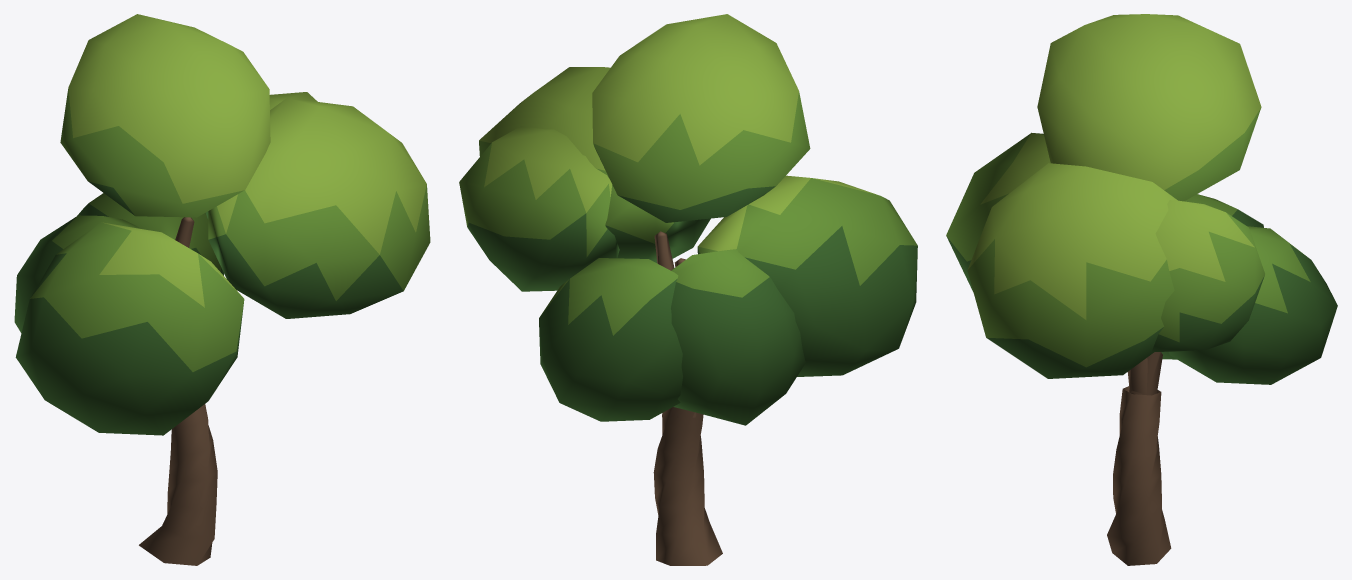
The model's file is BeechB_LOD.glb.
3 renders of one model, left to right at view 1: azimuth 30°, elevation 25°; view 2: azimuth 150°, elevation 25°; view 3: azimuth 270°, elevation 25°, orthographic.
Visible parts, largest first — view 1: BeechB_LOD.leafLight, BeechB_LOD.leafMid, BeechB_LOD.leafDark, BeechB_LOD.bark; view 2: BeechB_LOD.leafDark, BeechB_LOD.leafMid, BeechB_LOD.leafLight, BeechB_LOD.bark; view 3: BeechB_LOD.leafLight, BeechB_LOD.leafMid, BeechB_LOD.leafDark, BeechB_LOD.bark.
Part boxes in pixels (<box>): BeechB_LOD.leafLight: <box>68,14,426,307</box>; BeechB_LOD.leafMid: <box>30,89,430,371</box>; BeechB_LOD.leafDark: <box>14,181,403,435</box>; BeechB_LOD.bark: <box>139,217,217,565</box>; BeechB_LOD.leafDark: <box>467,186,917,425</box>; BeechB_LOD.leafMid: <box>459,91,917,335</box>; BeechB_LOD.leafLight: <box>479,14,878,251</box>; BeechB_LOD.bark: <box>653,231,722,565</box>; BeechB_LOD.leafLight: <box>967,14,1261,319</box>; BeechB_LOD.leafMid: <box>946,107,1310,367</box>; BeechB_LOD.leafDark: <box>946,209,1337,384</box>; BeechB_LOD.bark: <box>1107,352,1171,565</box>.
Size of the model in its own units: 16.7 by 21.35 by 14.16.
